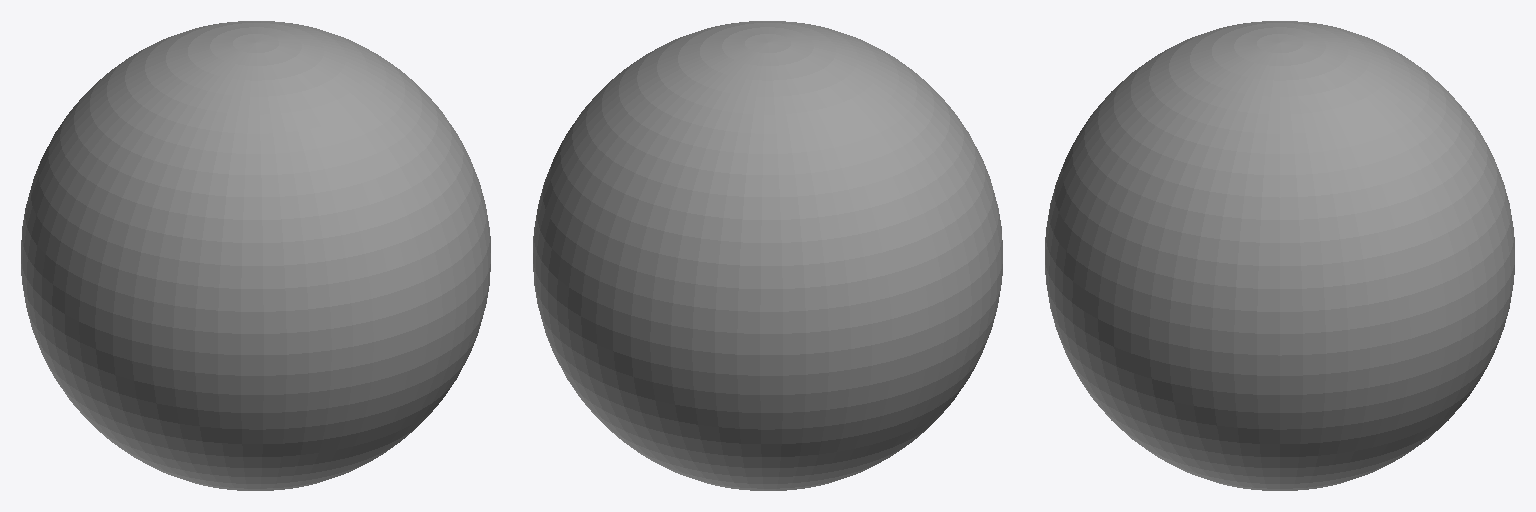
Rendered from neptune.obj.
3 views of the same model, side by side, from view 1: azimuth 30°, elevation 25°; view 2: azimuth 150°, elevation 25°; view 3: azimuth 270°, elevation 25° (orthographic).
Visible parts, largest first — view 1: Sphere; view 2: Sphere; view 3: Sphere.
Boxes of the visible parts, x1=… form: Sphere: x1=21, y1=21, x2=490, y2=490; Sphere: x1=533, y1=21, x2=1002, y2=490; Sphere: x1=1045, y1=21, x2=1514, y2=490.
Size of the model in its own units: 49.24 by 49.24 by 49.24.